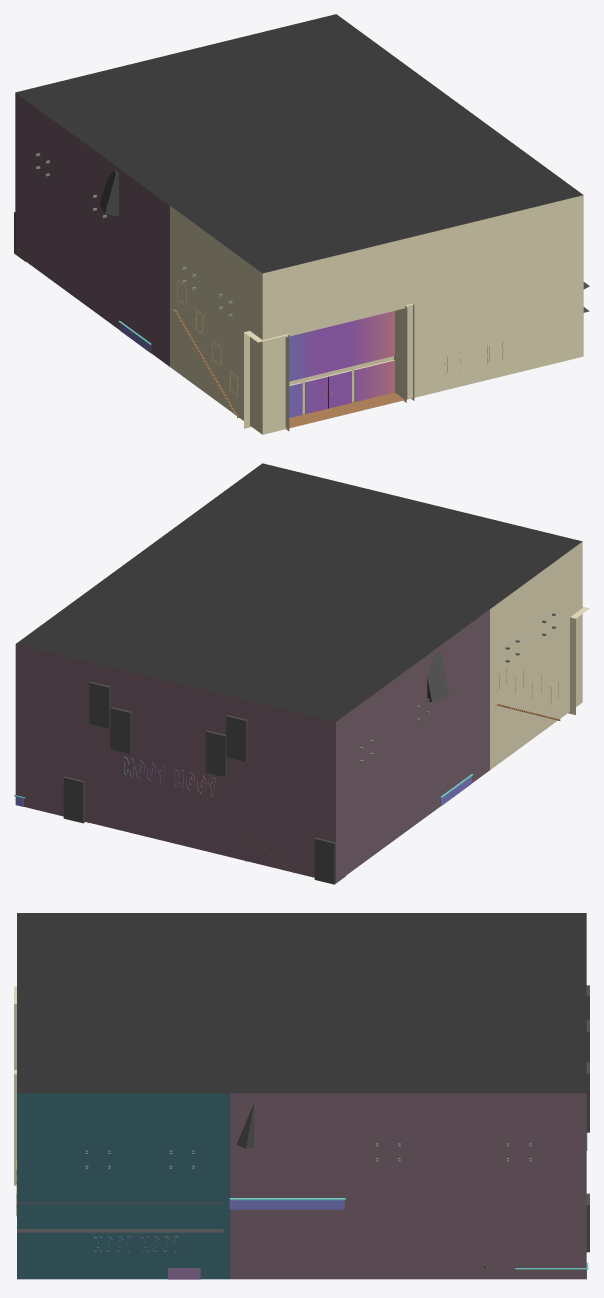
Rendered from Individual_PoomPoomPalace_02.fbx.
3 renders of one model, top to bottom at view 1: azimuth 30°, elevation 25°; view 2: azimuth 150°, elevation 25°; view 3: azimuth 270°, elevation 25°, orthographic. The views are drawn at different scales.
Parts seen in each view (by area): view 1: polySurface7, polySurface5, pasted__Object_Box24, pasted__Object_Box25, pCube107; view 2: polySurface7, polySurface5, pCube111, pCube113, pCube105, pCube10, pCube96, pCube104, pCube107, pasted__Object_Box25; view 3: polySurface7, polySurface5, pasted__Object_Box8, pasted__Object_Box52.
Boxes of the visible parts, x1,y1,x2,y2 form: polySurface7: [15, 92, 583, 434]; polySurface5: [15, 14, 583, 273]; pasted__Object_Box24: [394, 303, 414, 402]; pasted__Object_Box25: [244, 331, 289, 431]; pCube107: [100, 170, 118, 216]; polySurface7: [15, 542, 582, 882]; polySurface5: [16, 463, 582, 721]; pCube111: [314, 838, 345, 884]; pCube113: [63, 776, 84, 823]; pCube105: [89, 681, 110, 728]; pCube10: [110, 707, 131, 753]; pCube96: [205, 730, 226, 777]; pCube104: [226, 715, 247, 761]; pCube107: [427, 652, 448, 701]; pasted__Object_Box25: [568, 607, 589, 714]; polySurface7: [17, 1093, 586, 1279]; polySurface5: [17, 913, 586, 1093]; pasted__Object_Box8: [17, 1202, 223, 1232]; pasted__Object_Box52: [229, 1198, 344, 1209].
Bounding box in the file's own units: 2569 × 1106 × 3065.
